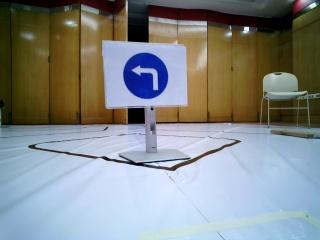left: (104, 42, 183, 102)
